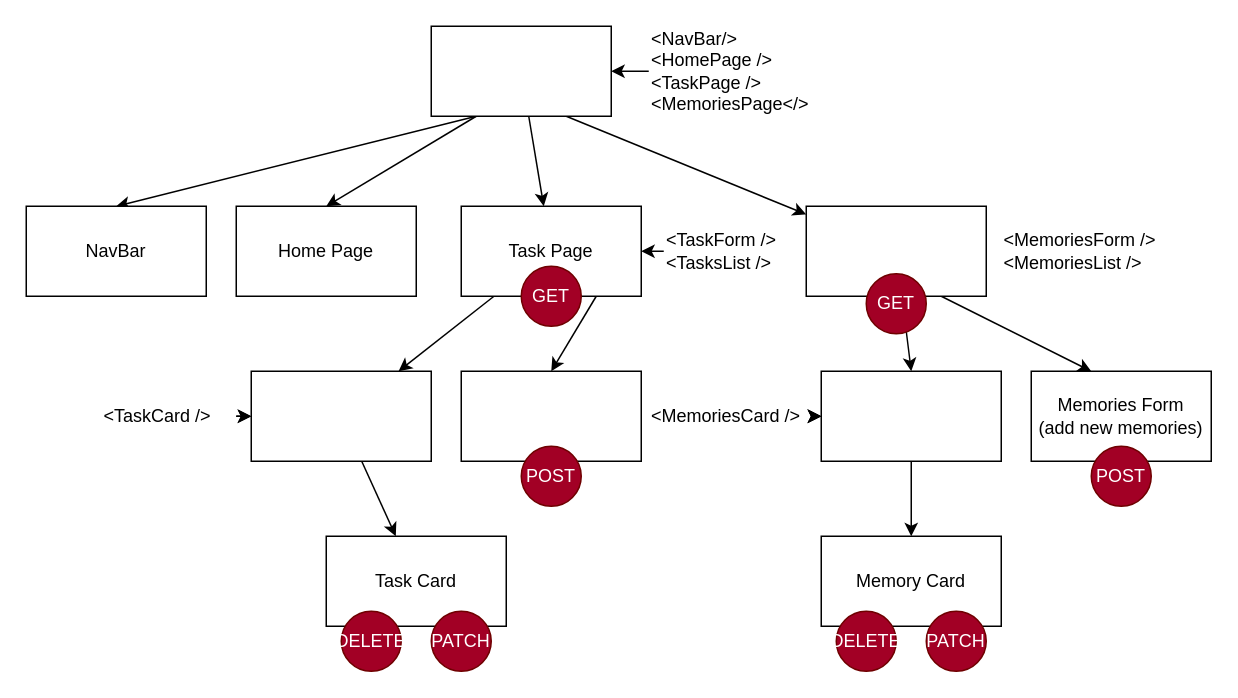
Some shapes in this 1238 by 698 pixel diagram are drawn without their labels. The centre of each missing label's shape, as x and y in pixels:
"App" goes at (520,70).
"Memories List" goes at (910,415).
"Memories Page" goes at (895,250).
"Task Form" goes at (550,415).
"Tasks List" goes at (340,415).
